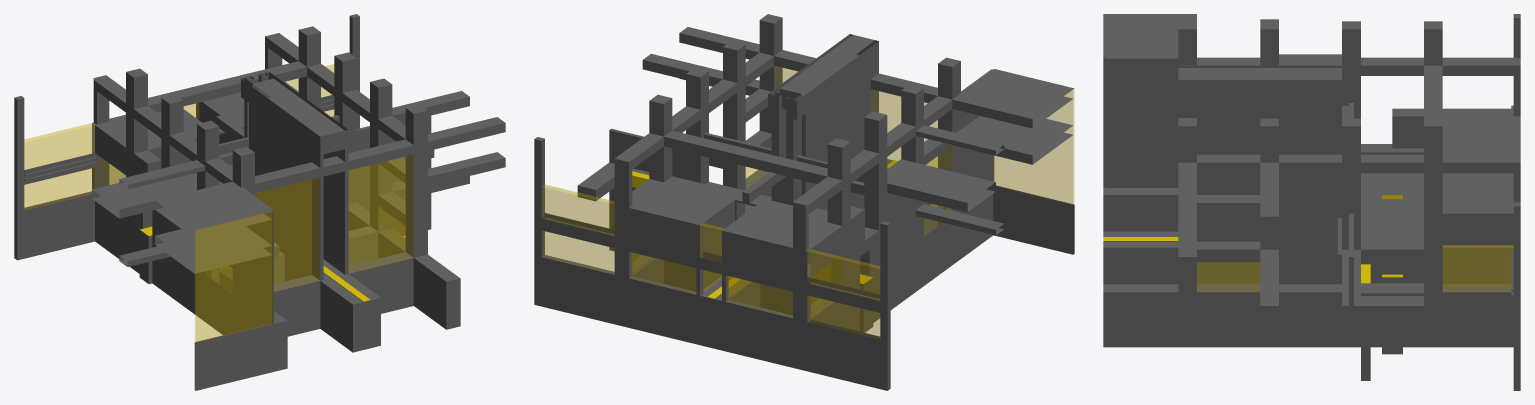
The model's file is GreatStructure.fbx.
3 views of the same model, side by side, from view 1: azimuth 30°, elevation 25°; view 2: azimuth 150°, elevation 25°; view 3: azimuth 270°, elevation 25° (orthographic). The views are drawn at different scales.
Visible parts, largest first — view 1: GearChamberStructure, GearChamberStructure.001; view 2: GearChamberStructure, GearChamberStructure.001; view 3: GearChamberStructure, GearChamberStructure.001.
Boxes of the visible parts, <box> form: GearChamberStructure: <box>14,14,505,390</box>; GearChamberStructure.001: <box>24,64,413,342</box>; GearChamberStructure: <box>534,14,1074,390</box>; GearChamberStructure.001: <box>542,66,1074,338</box>; GearChamberStructure: <box>1103,14,1520,390</box>; GearChamberStructure.001: <box>1197,245,1513,291</box>.
Size of the model in its own units: 19400 by 10400 by 17800.
